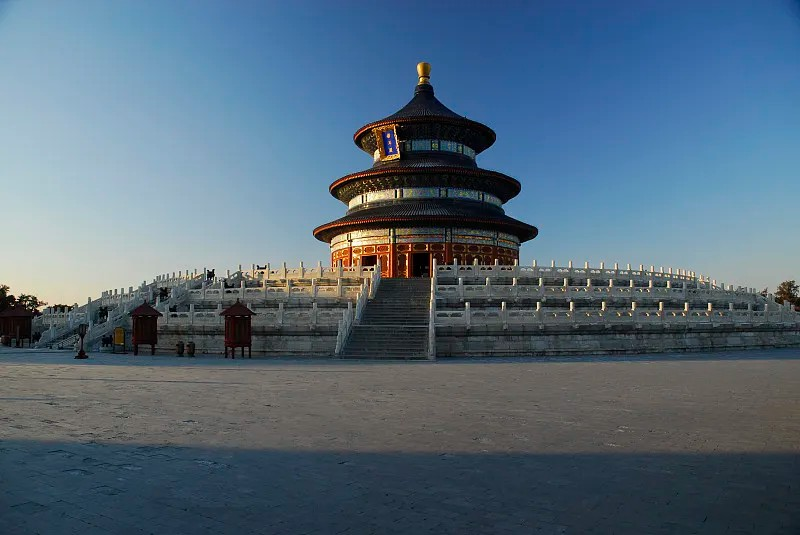Heaven: (312, 61, 540, 278)
